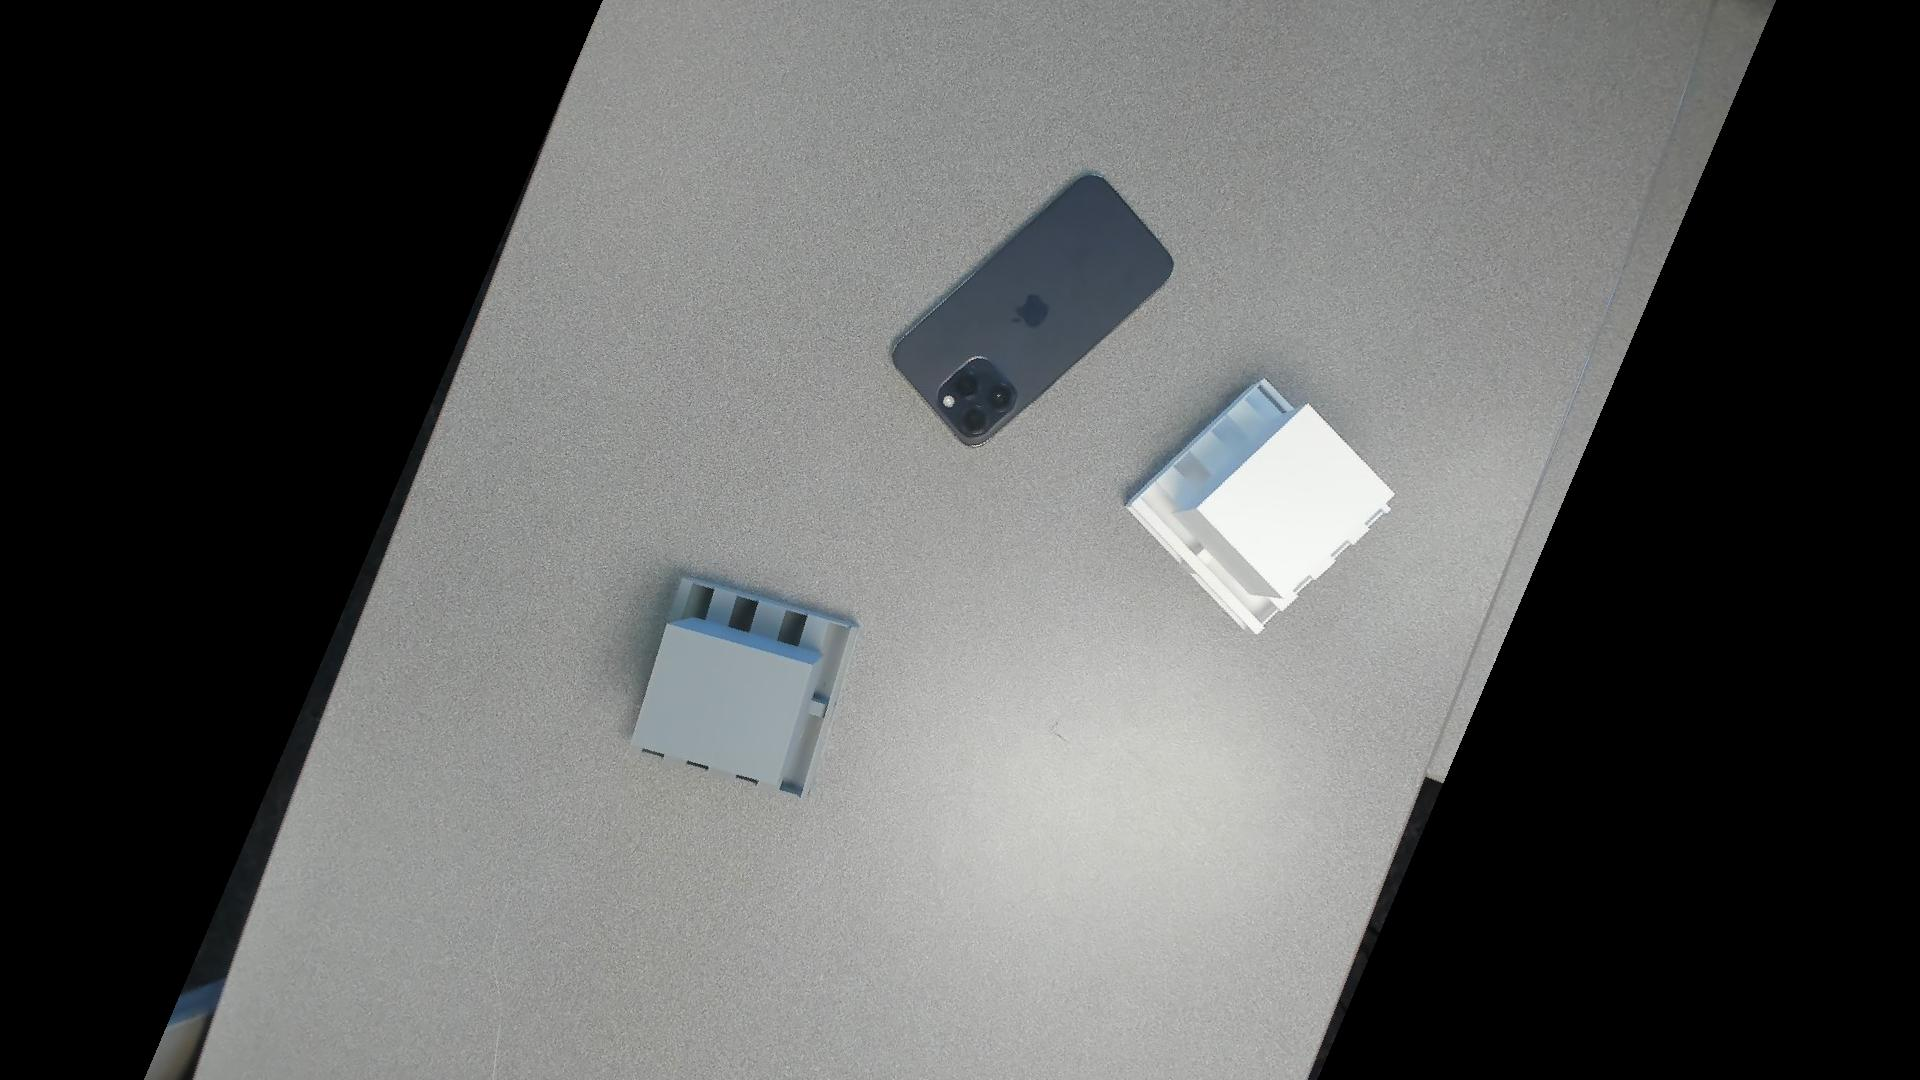grey pallet: (625, 559, 873, 829)
white pallet: (1120, 376, 1396, 644)
